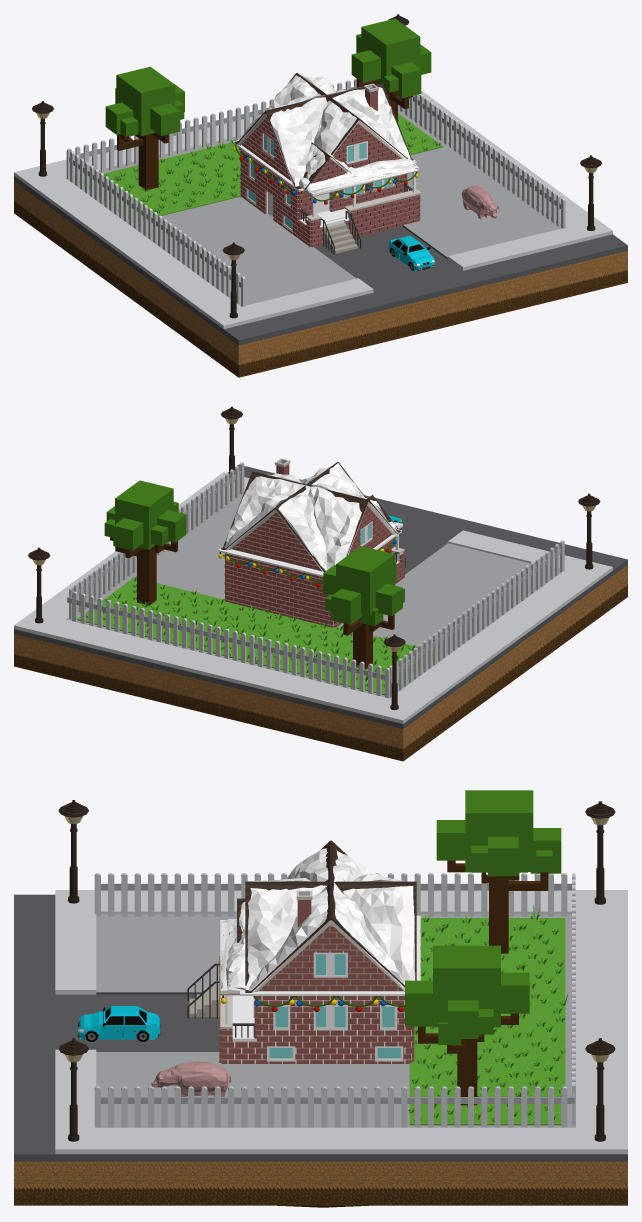
3 renders of one model, top to bottom at view 1: azimuth 30°, elevation 25°; view 2: azimuth 150°, elevation 25°; view 3: azimuth 270°, elevation 25°, orthographic. The views are drawn at different scales.
Visible parts, largest first — view 1: Cube.004, Cube.1419, VEHICLES_CAR, ANIMAL_HIPOPOTAMO; view 2: Cube.004, Cube.1419; view 3: Cube.004, Cube.1419, VEHICLES_CAR, ANIMAL_HIPOPOTAMO.
Part boxes in pixels (bbox=[...]): Cube.004: bbox=[14, 14, 627, 377]; Cube.1419: bbox=[233, 73, 421, 254]; VEHICLES_CAR: bbox=[388, 235, 434, 271]; ANIMAL_HIPOPOTAMO: bbox=[461, 185, 498, 219]; Cube.004: bbox=[14, 406, 627, 761]; Cube.1419: bbox=[218, 458, 405, 627]; Cube.004: bbox=[14, 790, 627, 1205]; Cube.1419: bbox=[187, 840, 420, 1063]; VEHICLES_CAR: bbox=[77, 1006, 160, 1041]; ANIMAL_HIPOPOTAMO: bbox=[151, 1061, 231, 1096].
Size of the model in its own units: 4000 by 1667 by 4000.
Materials: 40 (3 with a texture image).
